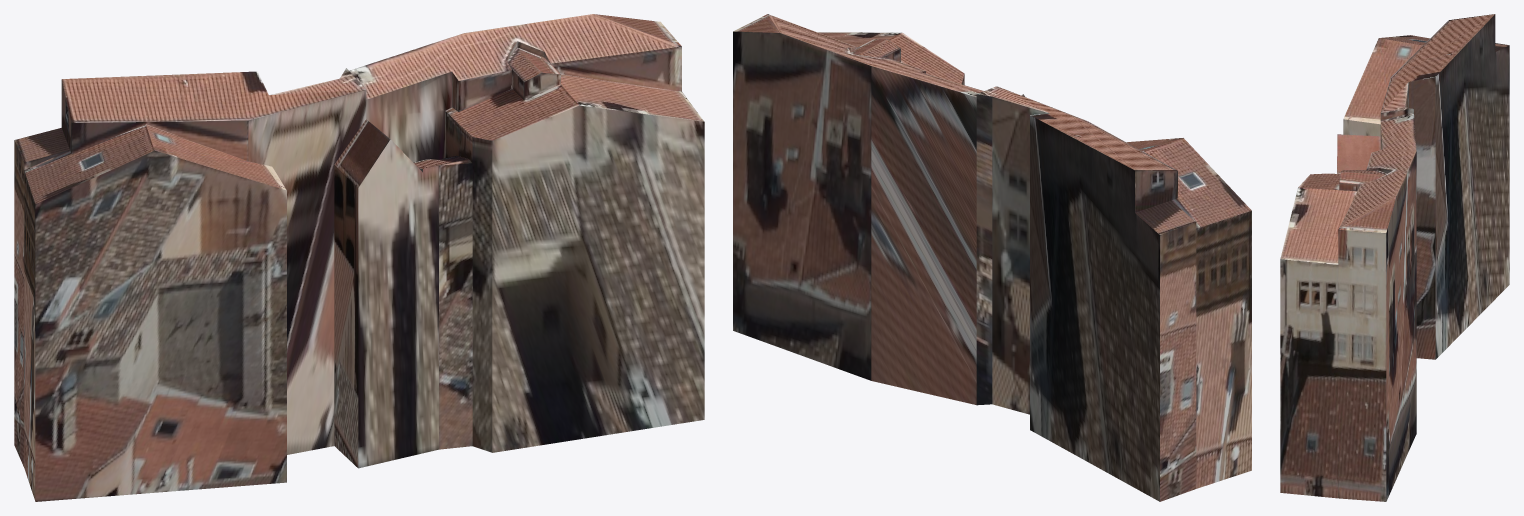
3 renders of one model, left to right at view 1: azimuth 30°, elevation 25°; view 2: azimuth 150°, elevation 25°; view 3: azimuth 270°, elevation 25°, orthographic. The views are drawn at different scales.
Visible parts, largest first — view 1: Z_UP; view 2: Z_UP; view 3: Z_UP.
Part boxes in pixels (left/top/right/bottom): Z_UP: left=14, top=14, right=704, bottom=501; Z_UP: left=733, top=14, right=1251, bottom=501; Z_UP: left=1280, top=14, right=1509, bottom=501.
Size of the model in its own units: 41.23 by 23.51 by 17.13.
Materials: 2 (1 with a texture image).
